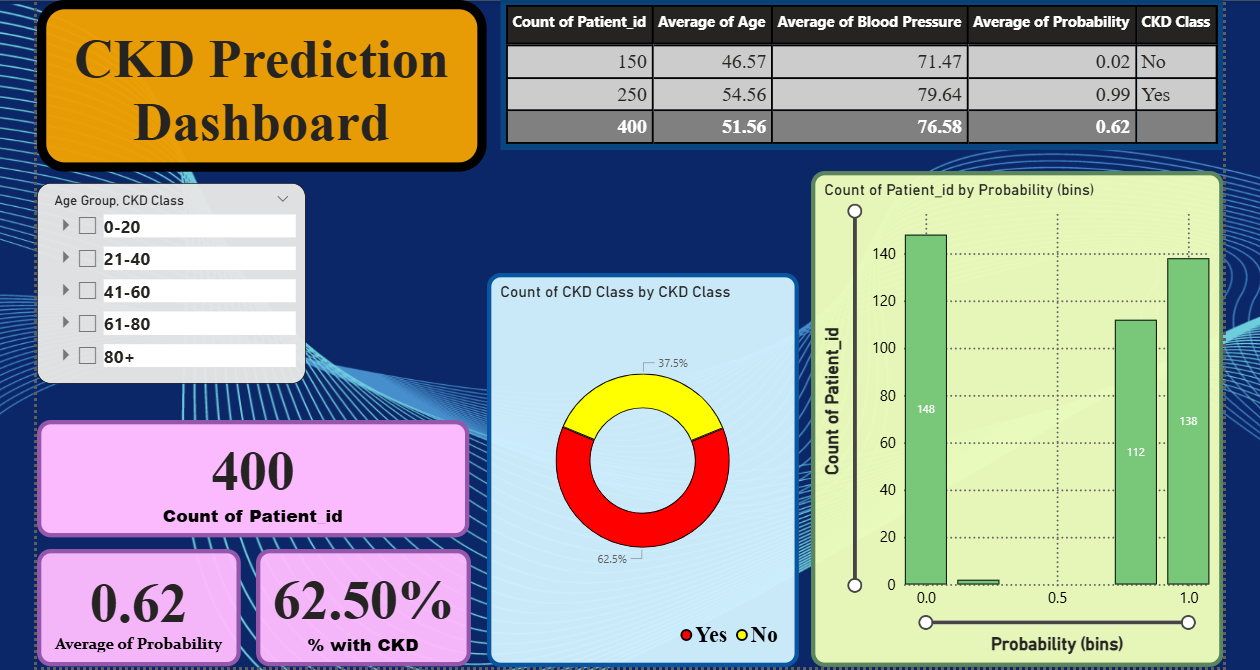

The page's visual inventory and layout, read from the dashboard file:
{"tool":"powerbi","page":{"name":"Page 1","canvas":[1280,720],"ordinal":0},"visuals":[{"type":"donutChart","fields":{"Category":["ckd_predictions_for_powerbi.CKD Class"],"Y":["CountNonNull(ckd_predictions_for_powerbi.CKD Class)"]},"box":[485,295,336.7,425],"z":0},{"type":"slicer","fields":{"Values":["ckd_predictions_for_powerbi.Age Group","ckd_predictions_for_powerbi.CKD Class"]},"box":[0,198.3,290,216.7],"z":1000},{"type":"textbox","box":[0,0,485,185],"z":2000},{"type":"clusteredColumnChart","fields":{"Category":["ckd_predictions_for_powerbi.Probability (bins)"],"Y":["CountNonNull(ckd_predictions_for_powerbi.Patient_id)"]},"box":[835,185,445,535],"z":3000},{"type":"card","fields":{"Values":["Avg(ckd_predictions_for_powerbi.Probability)"]},"box":[0,593.3,220,126.7],"z":4000},{"type":"card","fields":{"Values":["ckd_predictions_for_powerbi.% with CKD"]},"box":[236.7,593.3,231.7,126.7],"z":5000},{"type":"card","fields":{"Values":["Count(ckd_predictions_for_powerbi.Patient_id)"]},"box":[0,453.3,466.7,126.7],"z":6000},{"type":"tableEx","fields":{"Values":["Count(ckd_predictions_for_powerbi.Patient_id)","Avg(ckd_predictions_for_powerbi.Age)","Avg(ckd_predictions_for_powerbi.Blood Pressure)","Avg(ckd_predictions_for_powerbi.Probability)","ckd_predictions_for_powerbi.CKD Class"]},"box":[500,0,780,161.7],"z":7000}]}

Visuals, with their boxes in screenshot pixels (x1, y1, x2, y2):
donutChart - ckd_predictions_for_powerbi.CKD Class x CountNonNull(ckd_predictions_for_powerbi.CKD Class): (484,270,793,660)
slicer - ckd_predictions_for_powerbi.Age Group x ckd_predictions_for_powerbi.CKD Class: (39,182,305,380)
textbox: (39,0,484,170)
clusteredColumnChart - ckd_predictions_for_powerbi.Probability (bins) x CountNonNull(ckd_predictions_for_powerbi.Patient_id): (805,170,1213,660)
card - Avg(ckd_predictions_for_powerbi.Probability): (39,544,241,660)
card - ckd_predictions_for_powerbi.% with CKD: (256,544,469,660)
card - Count(ckd_predictions_for_powerbi.Patient_id): (39,416,467,532)
tableEx - Count(ckd_predictions_for_powerbi.Patient_id) x Avg(ckd_predictions_for_powerbi.Age): (498,0,1213,148)
